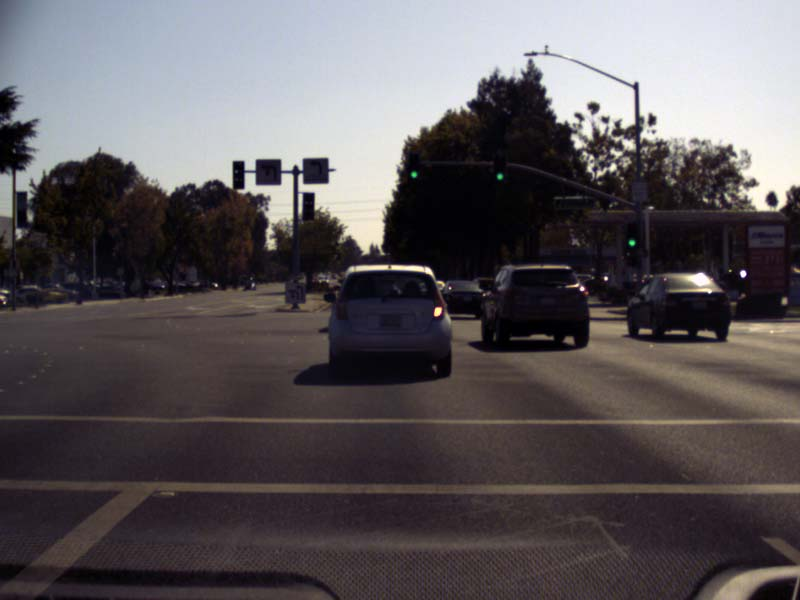Green: (494, 153, 506, 182), (626, 223, 637, 251), (407, 153, 418, 179)
